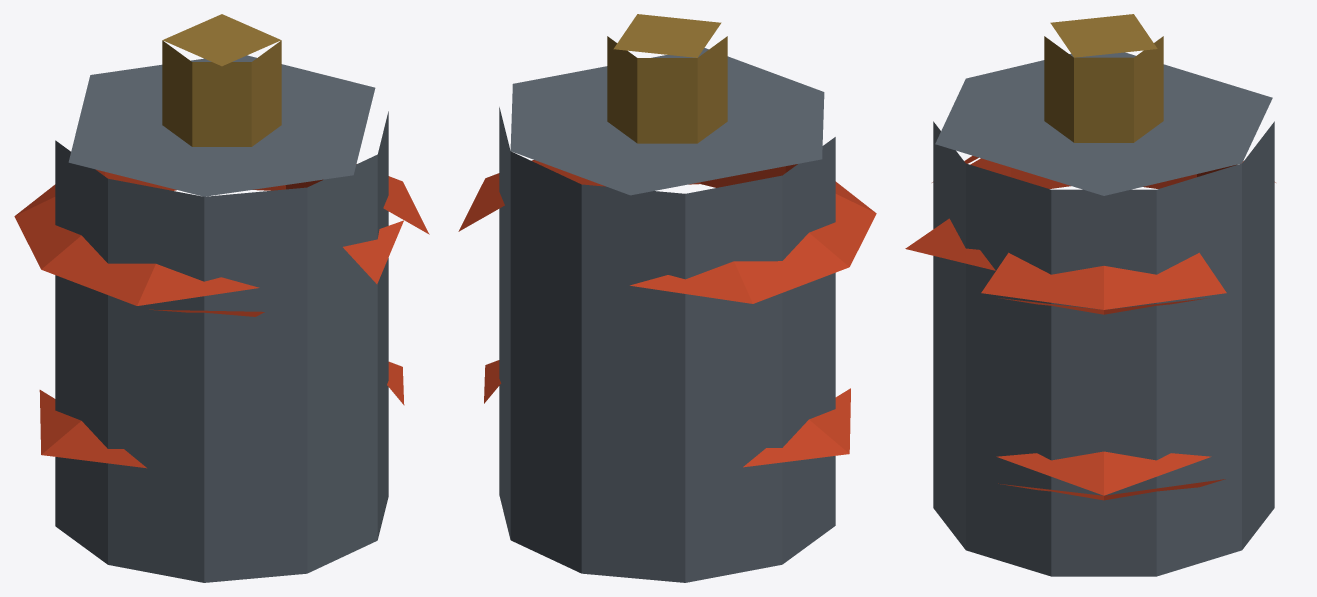
Rendered from cell-incendiary.lod.glb.
3 renders of one model, left to right at view 1: azimuth 30°, elevation 25°; view 2: azimuth 150°, elevation 25°; view 3: azimuth 270°, elevation 25°, orthographic.
Parts seen in each view (by area): view 1: m; view 2: m; view 3: m.
Part boxes in pixels (<box>): m: <box>14,14,429,582</box>; m: <box>458,14,876,582</box>; m: <box>905,14,1275,576</box>.
Size of the model in its own units: 0.0482 by 0.06 by 0.0458.
